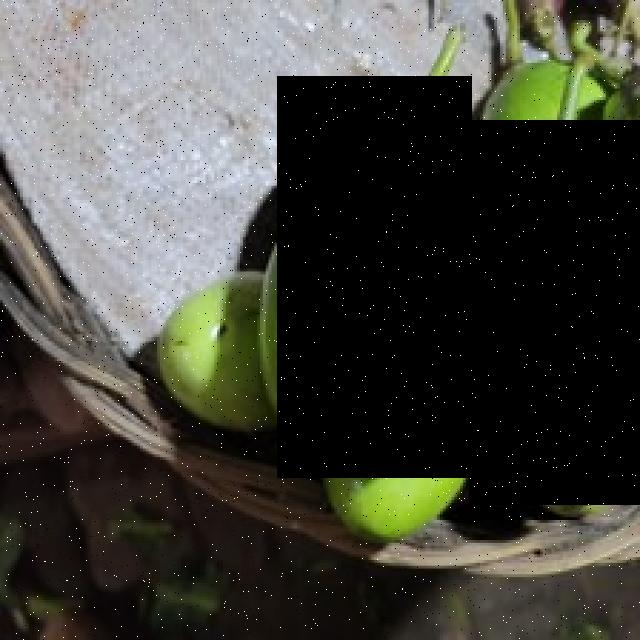Green_Brinjal: (278, 76, 472, 478), (469, 120, 640, 505)
